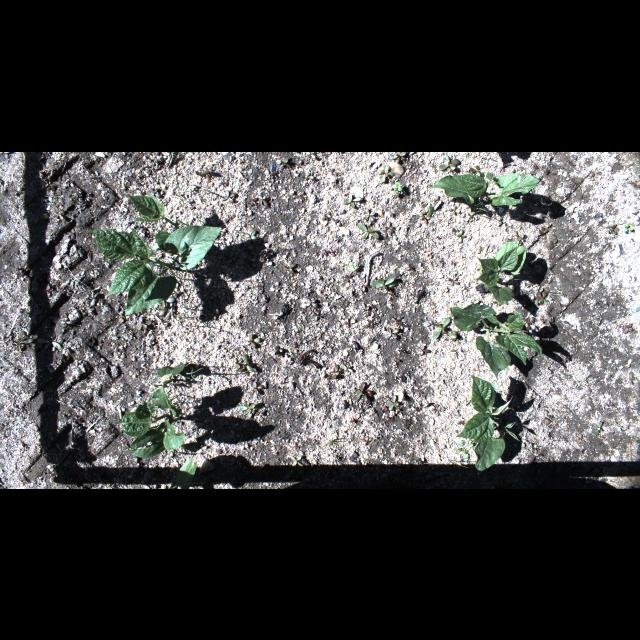crop: (83, 223, 221, 314), (450, 301, 544, 377), (110, 362, 186, 456), (456, 373, 520, 472), (126, 187, 186, 256), (430, 170, 540, 207), (478, 237, 526, 306)
weed: (172, 458, 198, 488), (182, 350, 204, 378), (433, 316, 457, 338), (194, 166, 222, 182), (11, 330, 31, 352), (234, 402, 258, 420), (352, 382, 372, 402), (153, 290, 175, 308), (371, 276, 397, 290), (376, 163, 394, 181), (234, 354, 252, 372), (456, 440, 474, 458), (342, 192, 362, 208), (36, 337, 62, 349), (357, 224, 379, 238), (242, 228, 258, 246), (438, 154, 458, 168), (430, 195, 442, 218), (243, 333, 261, 347), (468, 164, 486, 178), (471, 200, 491, 212), (222, 188, 236, 202), (536, 291, 550, 305), (322, 372, 338, 383), (290, 456, 304, 468), (362, 207, 374, 221), (388, 395, 398, 411), (393, 180, 403, 196), (388, 152, 408, 160), (359, 276, 369, 292), (444, 276, 460, 286), (464, 209, 476, 221), (538, 224, 550, 236), (593, 421, 603, 435), (341, 363, 355, 373), (384, 328, 398, 338), (416, 344, 430, 354), (526, 317, 536, 331), (626, 372, 636, 386), (607, 223, 619, 234), (457, 228, 465, 244), (543, 408, 551, 424), (359, 302, 368, 316), (418, 211, 428, 223), (54, 208, 64, 220), (254, 382, 264, 394), (257, 194, 267, 206), (332, 363, 342, 375), (450, 204, 460, 216), (449, 346, 461, 356), (431, 404, 441, 416), (452, 332, 464, 342), (386, 220, 394, 233), (624, 222, 634, 232), (304, 170, 314, 180), (362, 436, 372, 446), (392, 315, 402, 325), (390, 354, 400, 364), (515, 230, 525, 240), (624, 323, 634, 333), (274, 156, 290, 162), (284, 263, 296, 271), (306, 298, 318, 306), (550, 238, 558, 250), (348, 262, 358, 270), (234, 357, 242, 367), (343, 272, 353, 280), (534, 299, 542, 305)
